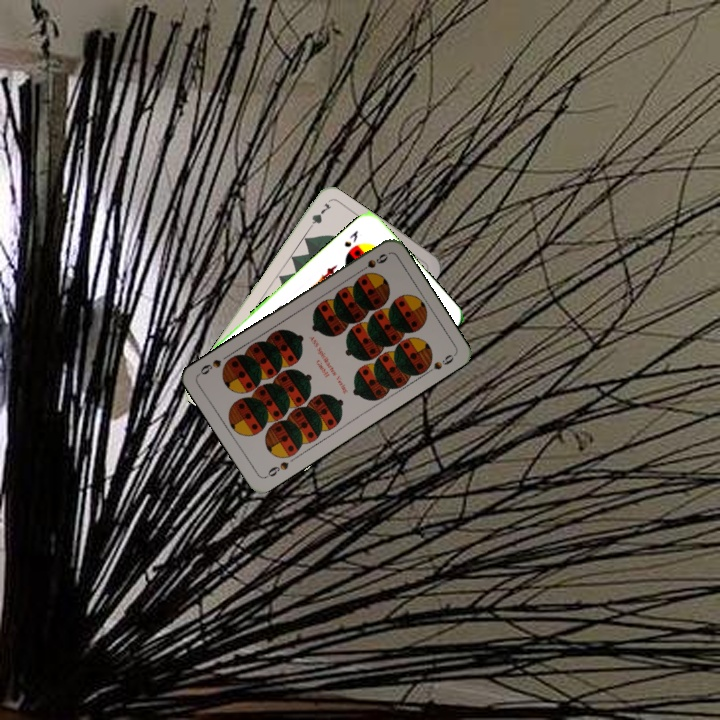G7: (303, 199, 334, 235)
S9: (354, 249, 391, 276), (261, 458, 291, 480)
SK: (340, 226, 361, 250)
